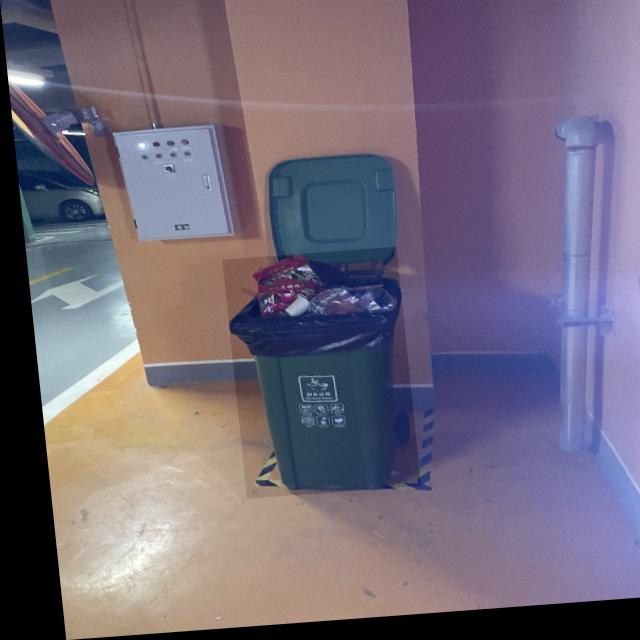overflow: (216, 252, 410, 502)
